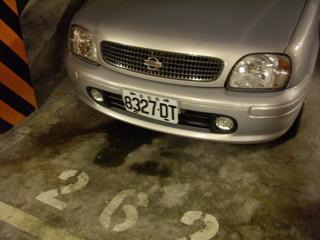plate: (119, 86, 180, 126)
